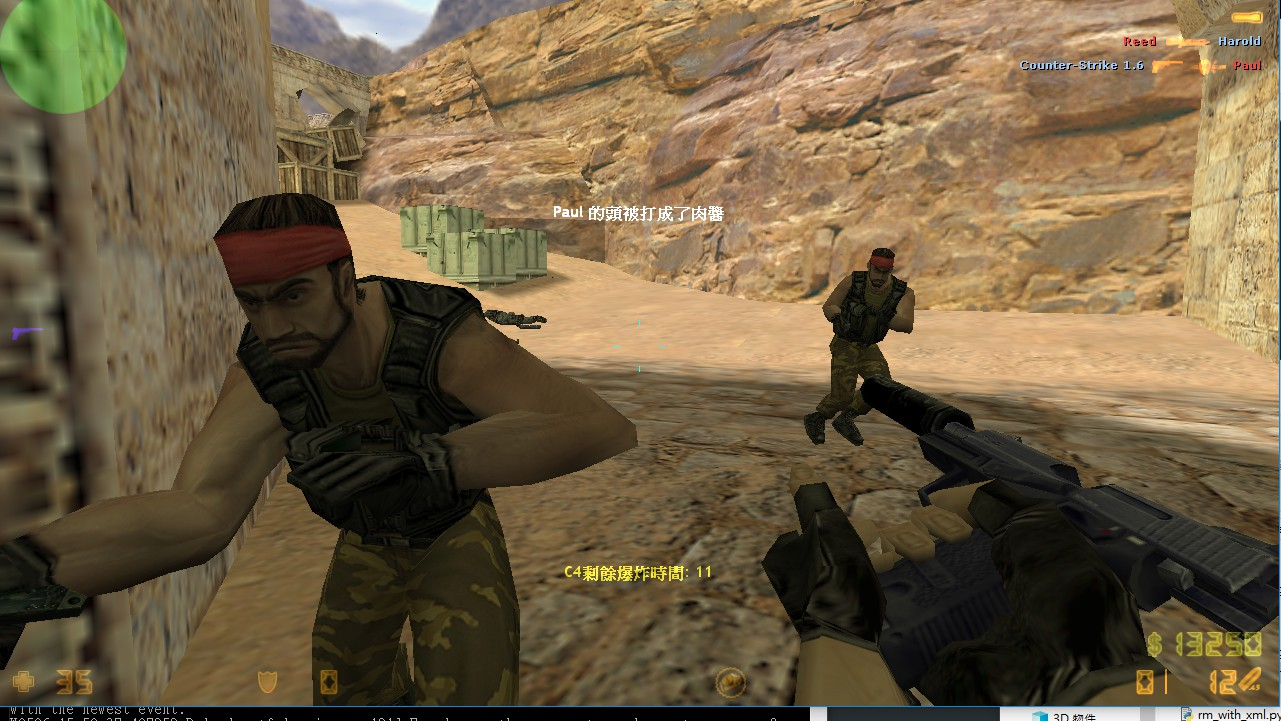person: (815, 238, 919, 449)
